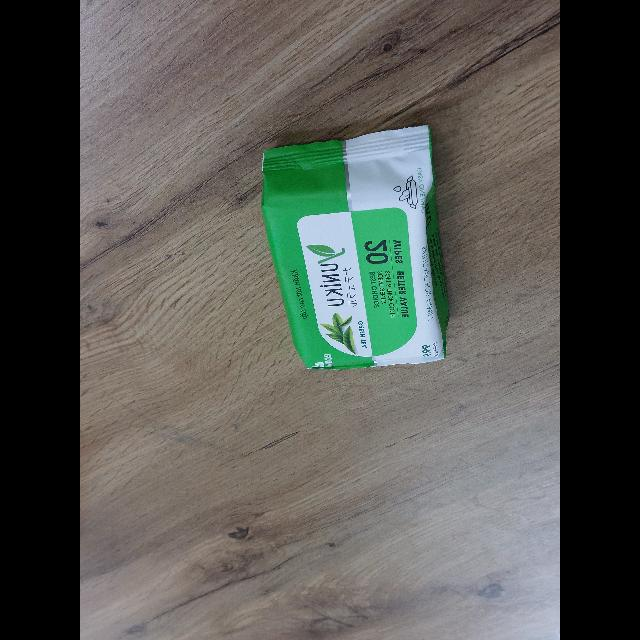khan_giay: (260, 122, 450, 369)
